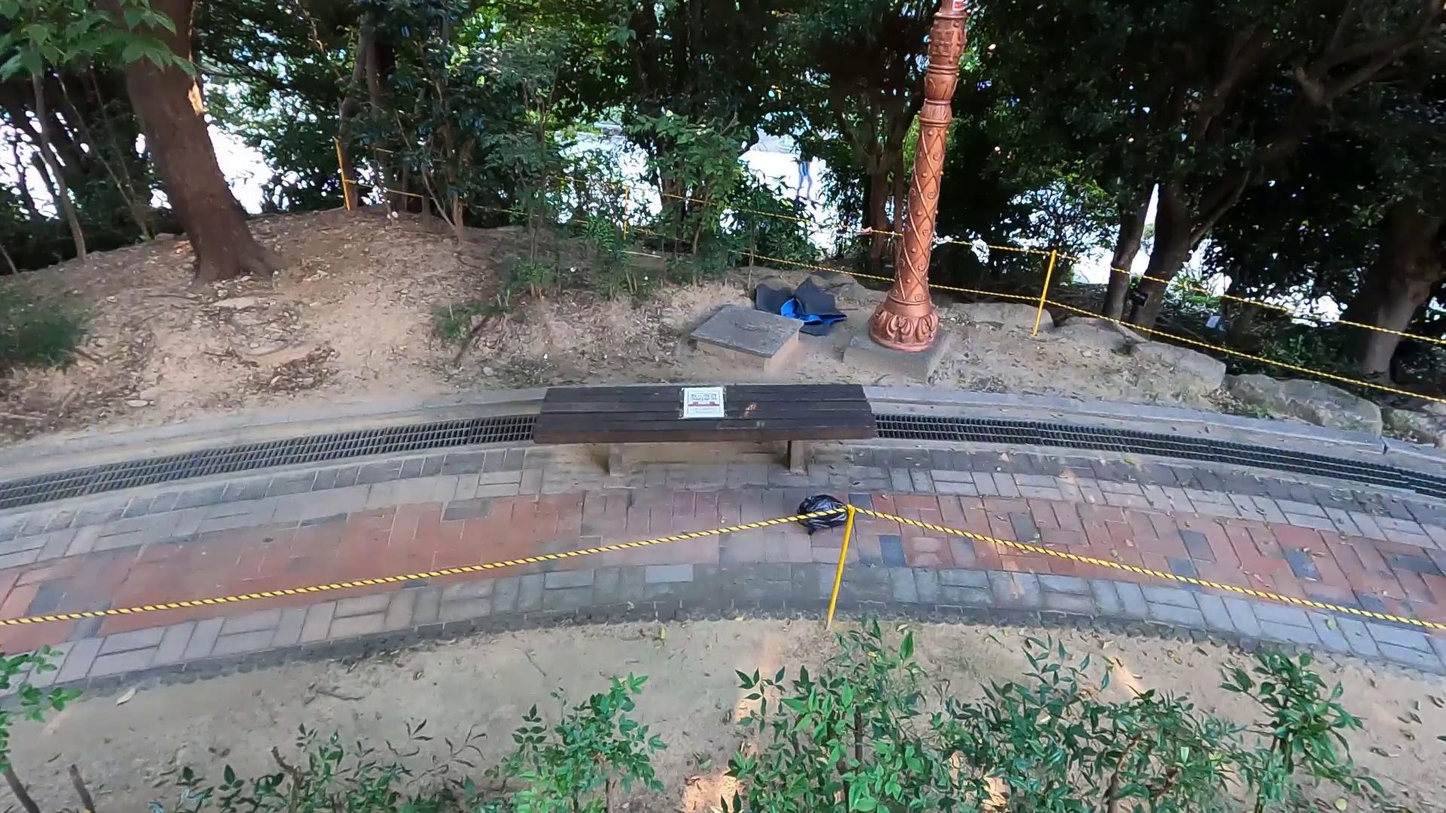trash: (753, 269, 854, 336), (801, 493, 850, 537)
